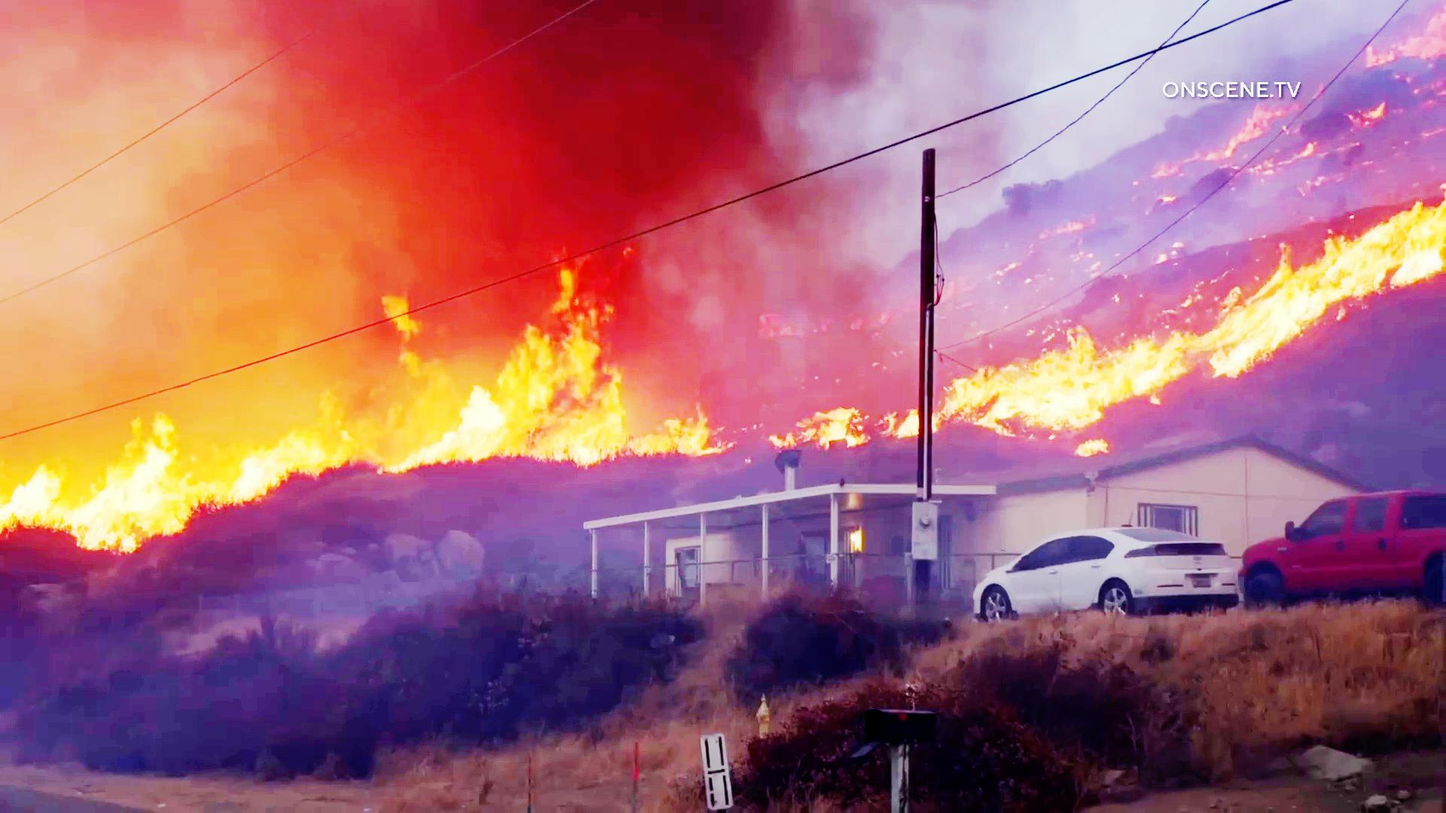fire: (246, 0, 697, 221), (397, 266, 644, 458), (22, 392, 298, 557), (923, 333, 1194, 440), (1260, 211, 1446, 354)
